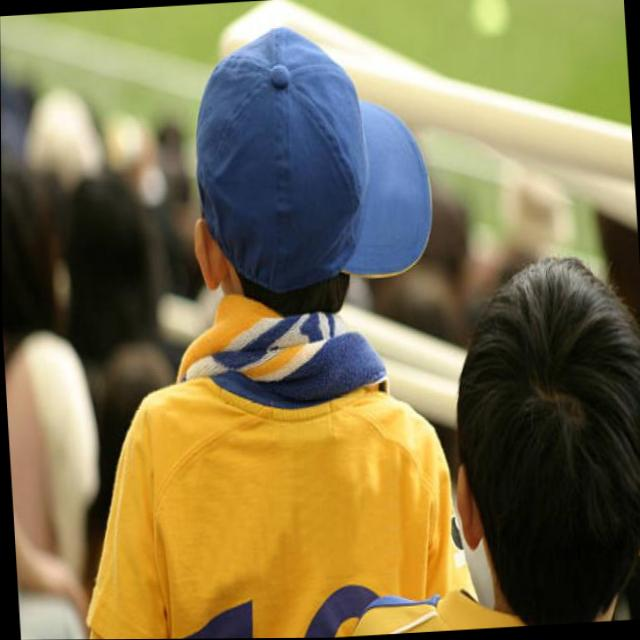no helmet: (156, 19, 445, 328)
